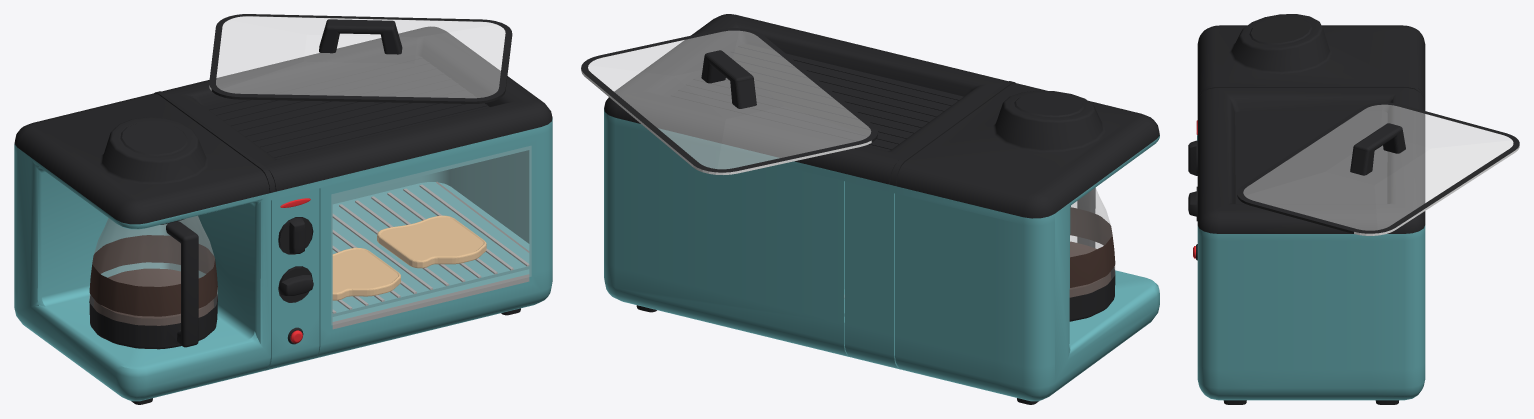
Rendered from obj_vintage_electric_breakfast_s_9293fb.glb.
3 renders of one model, left to right at view 1: azimuth 30°, elevation 25°; view 2: azimuth 150°, elevation 25°; view 3: azimuth 270°, elevation 25°, orthographic. The views are drawn at different scales.
Visible parts, largest first — view 1: obj_vintage_electric_breakfast_s_9293fb; view 2: obj_vintage_electric_breakfast_s_9293fb; view 3: obj_vintage_electric_breakfast_s_9293fb.
Part boxes in pixels (<box>): obj_vintage_electric_breakfast_s_9293fb: <box>14,14,552,404</box>; obj_vintage_electric_breakfast_s_9293fb: <box>581,14,1159,404</box>; obj_vintage_electric_breakfast_s_9293fb: <box>1188,14,1519,404</box>.
Size of the model in its own units: 0.45 by 0.2258 by 0.2914.
2 materials, 2 textured.
